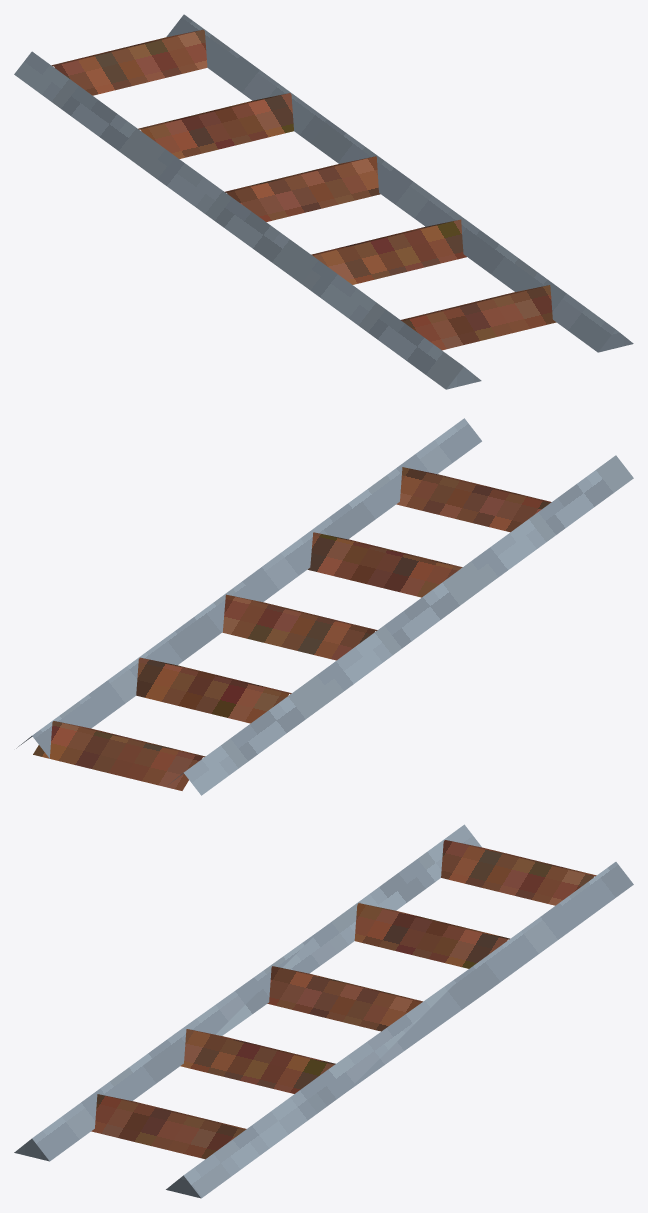
Rendered from railstraight.obj.
The picture shows the model from 3 angles, top to bottom: view 1: azimuth 30°, elevation 25°; view 2: azimuth 150°, elevation 25°; view 3: azimuth 330°, elevation 25°; orthographic projection.
Parts seen in each view (by area): view 1: Geoset_000_Geoset_000_None_88.png, Geoset_001_Geoset_001_None; view 2: Geoset_000_Geoset_000_None_88.png, Geoset_001_Geoset_001_None; view 3: Geoset_000_Geoset_000_None_88.png, Geoset_001_Geoset_001_None.
Boxes of the visible parts, bbox=[...] form: Geoset_000_Geoset_000_None_88.png: bbox=[14, 14, 633, 389]; Geoset_001_Geoset_001_None: bbox=[51, 29, 556, 350]; Geoset_000_Geoset_000_None_88.png: bbox=[16, 418, 633, 795]; Geoset_001_Geoset_001_None: bbox=[33, 467, 551, 790]; Geoset_000_Geoset_000_None_88.png: bbox=[14, 824, 633, 1198]; Geoset_001_Geoset_001_None: bbox=[91, 840, 596, 1159].
Size of the model in its own units: 1.51 by 0.1574 by 5.98.
